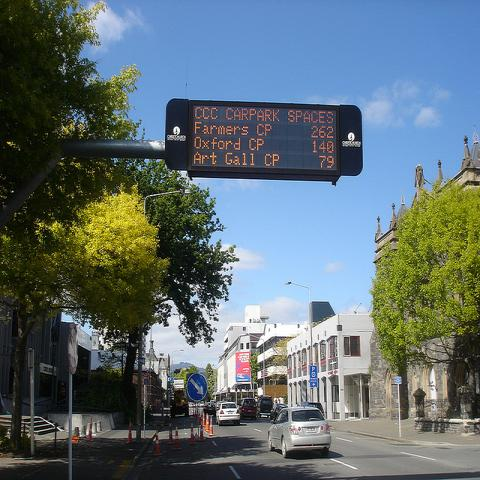car: (266, 408, 331, 460), (215, 402, 240, 426), (257, 395, 274, 419), (238, 398, 256, 419), (270, 404, 288, 421), (303, 403, 325, 414), (203, 402, 216, 416), (189, 402, 194, 408)
